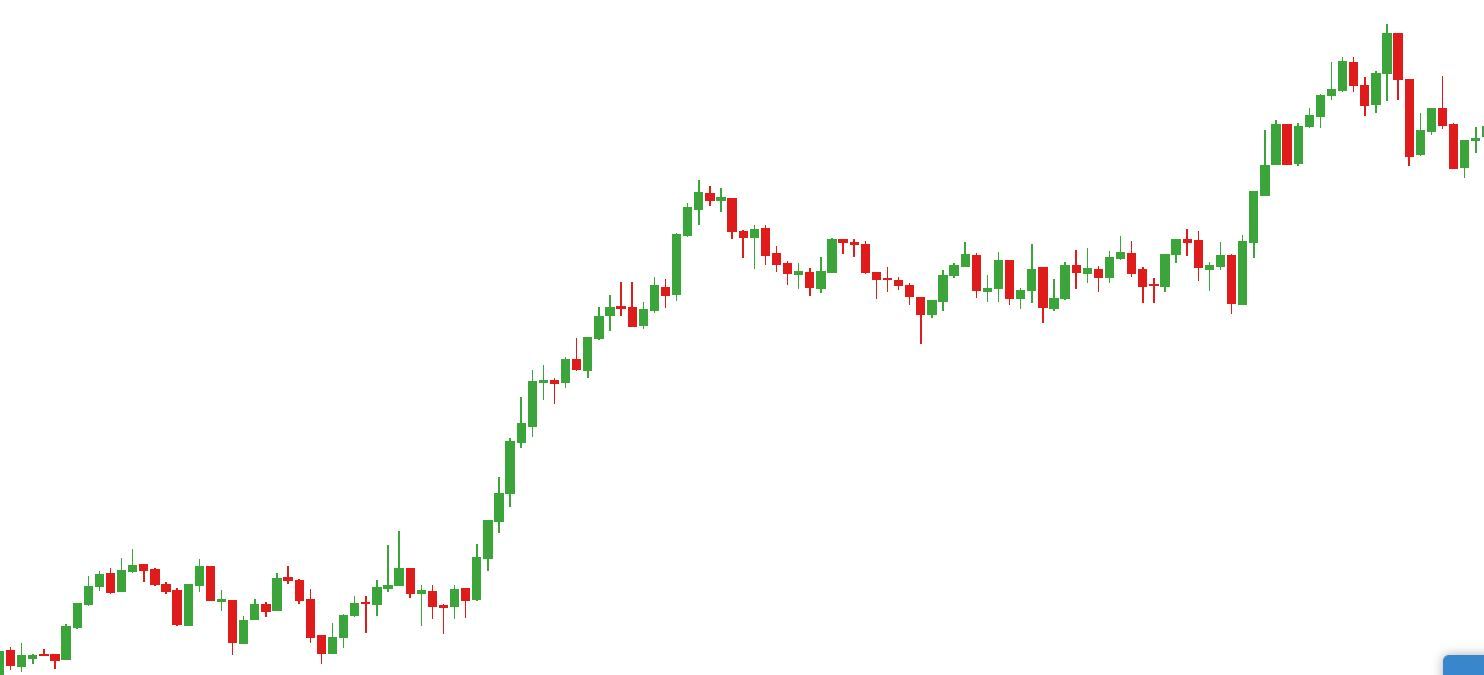buy: (804, 248, 949, 351), (227, 586, 338, 668), (1140, 252, 1251, 315)
sell: (1327, 19, 1405, 99)
